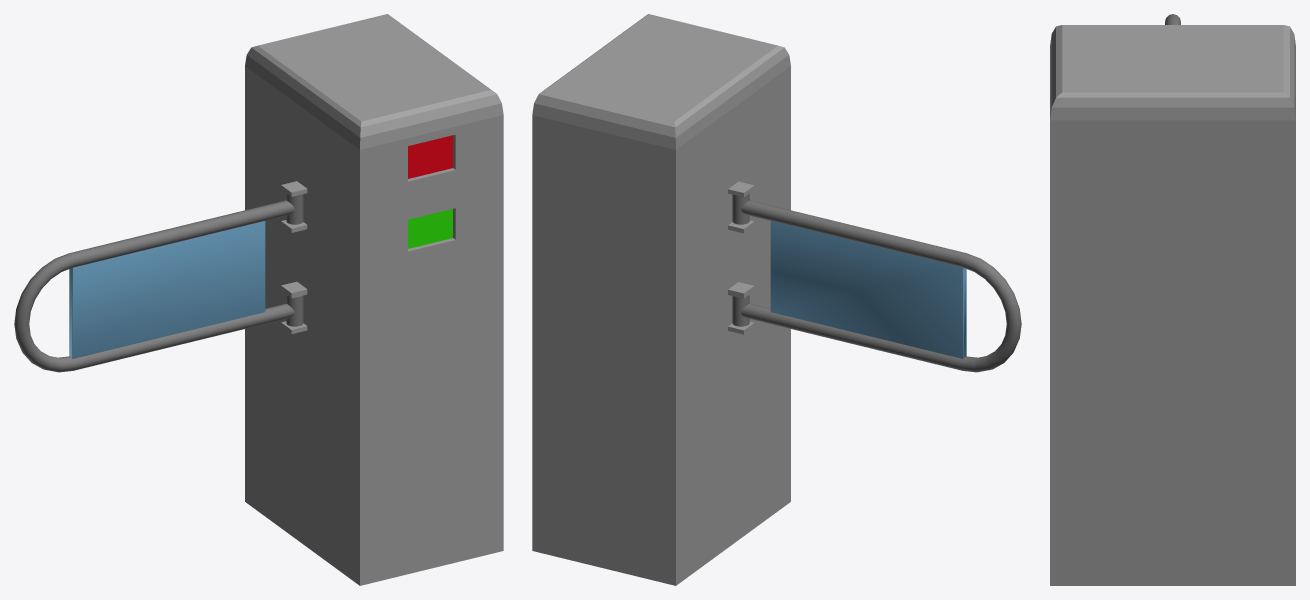
The model's file is Turnstill.door.fbx.
3 views of the same model, side by side, from view 1: azimuth 30°, elevation 25°; view 2: azimuth 150°, elevation 25°; view 3: azimuth 270°, elevation 25° (orthographic). The views are drawn at different scales.
Parts seen in each view (by area): view 1: makine, kapı; view 2: makine, kapı; view 3: makine.
Boxes of the visible parts, x1=… form: makine: x1=245, y1=14, x2=503, y2=585; kapı: x1=14, y1=193, x2=303, y2=372; makine: x1=532, y1=14, x2=790, y2=585; kapı: x1=732, y1=193, x2=1021, y2=372; makine: x1=1050, y1=25, x2=1295, y2=585.
Size of the model in its own units: 301 by 306 by 139.
